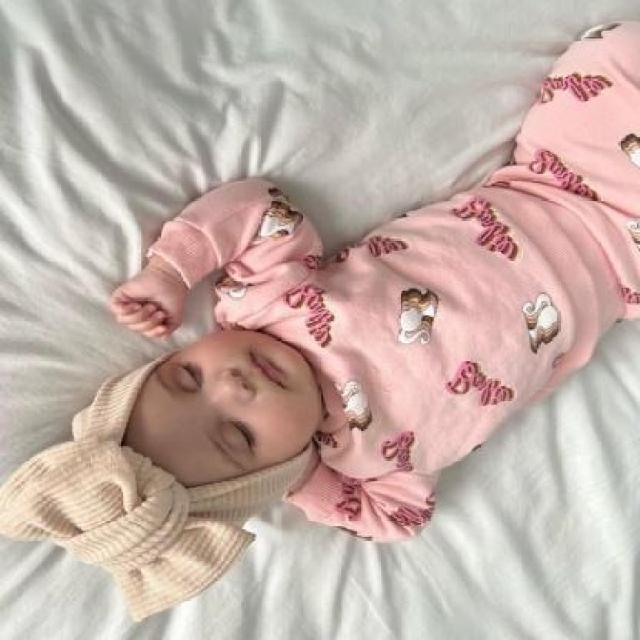child: (0, 177, 454, 620)
